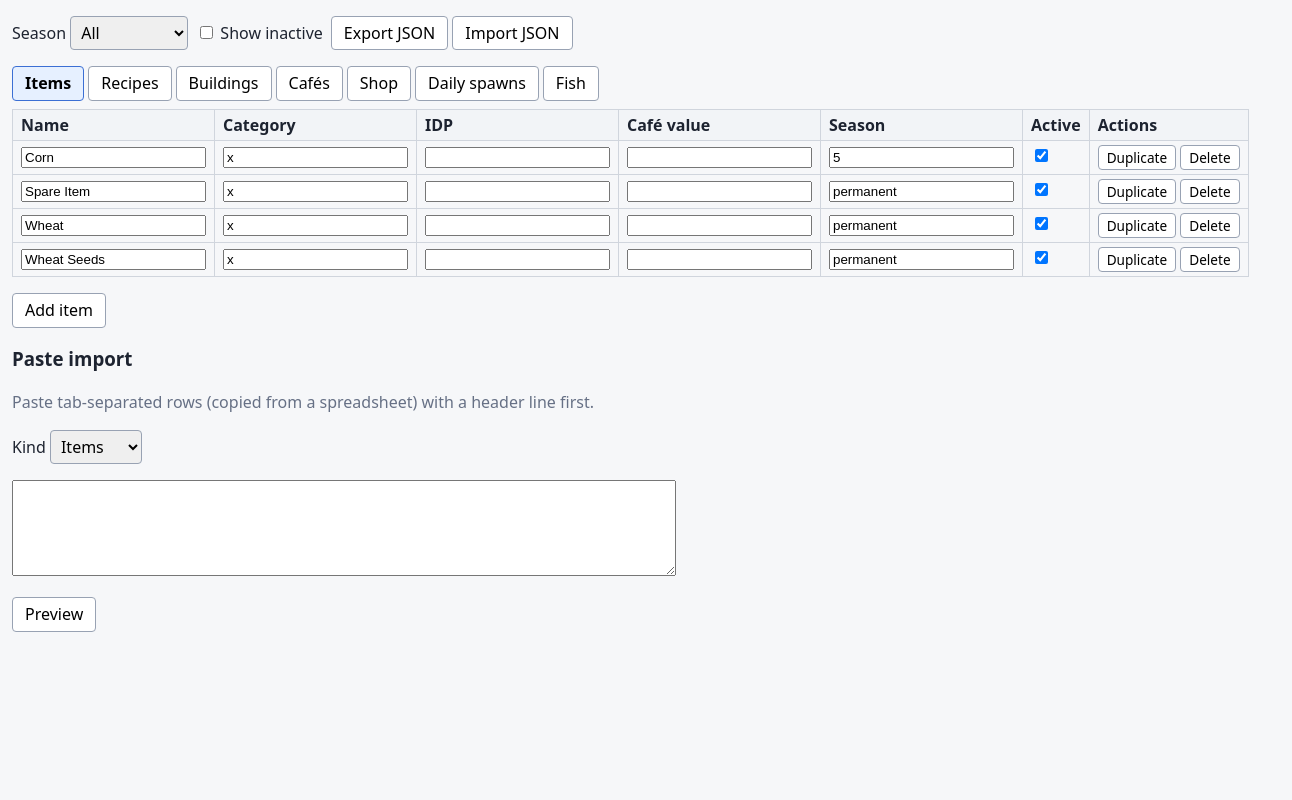
it: DataTab › switches the season filter to All (with a note) when it would hide a new row
Select "Permanent" in the dropdown named "Season filter" at (129, 33), box [70,16,188,50]
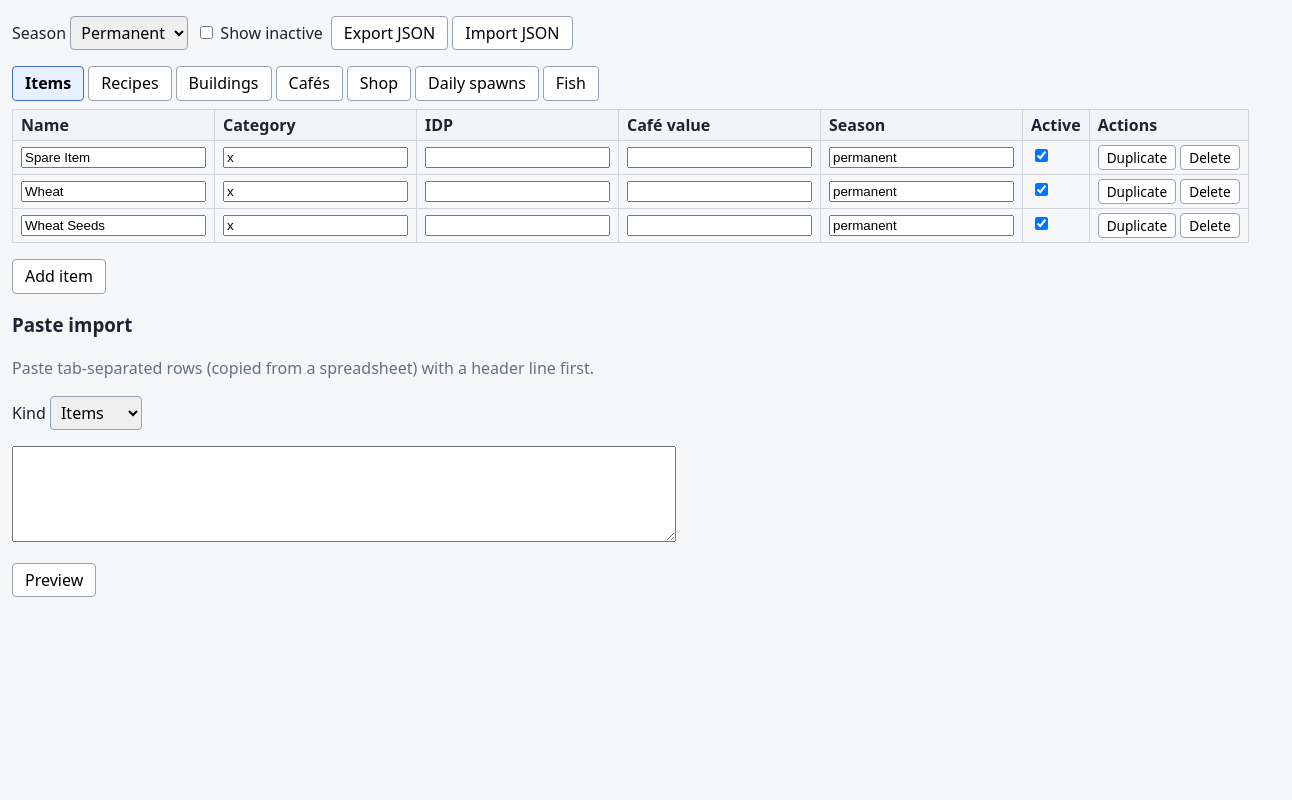
Click the button "Add item" at (59, 276), box [12,259,106,294]
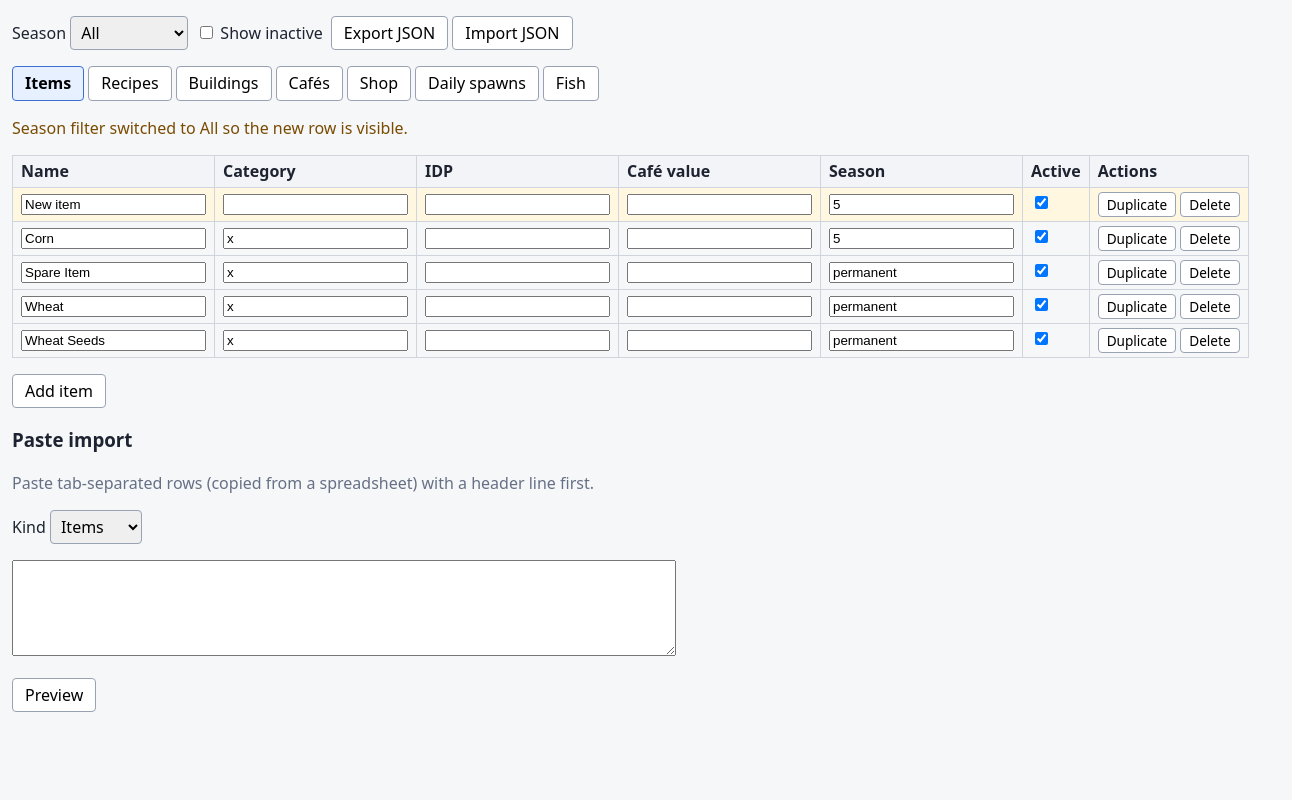
Expected: the message shows "switched to All", [12,117,408,139]
Expected: the field showing "New item" is shown, [21,194,206,215]
Select "Season 5" in the dropdown named "Season filter" at (129, 33), box [70,16,188,50]
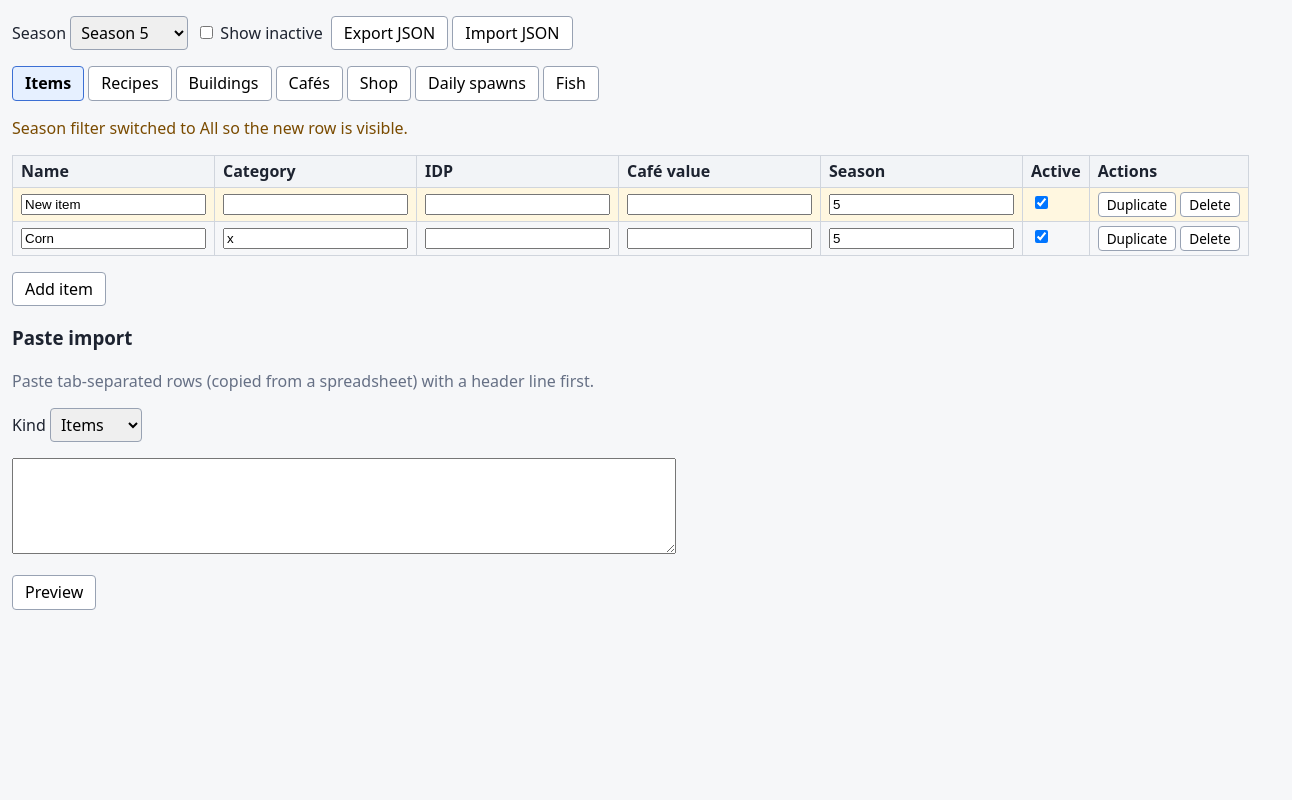
Click the button with aria-label "Duplicate Corn" at (1137, 238), box [1098,226,1176,251]
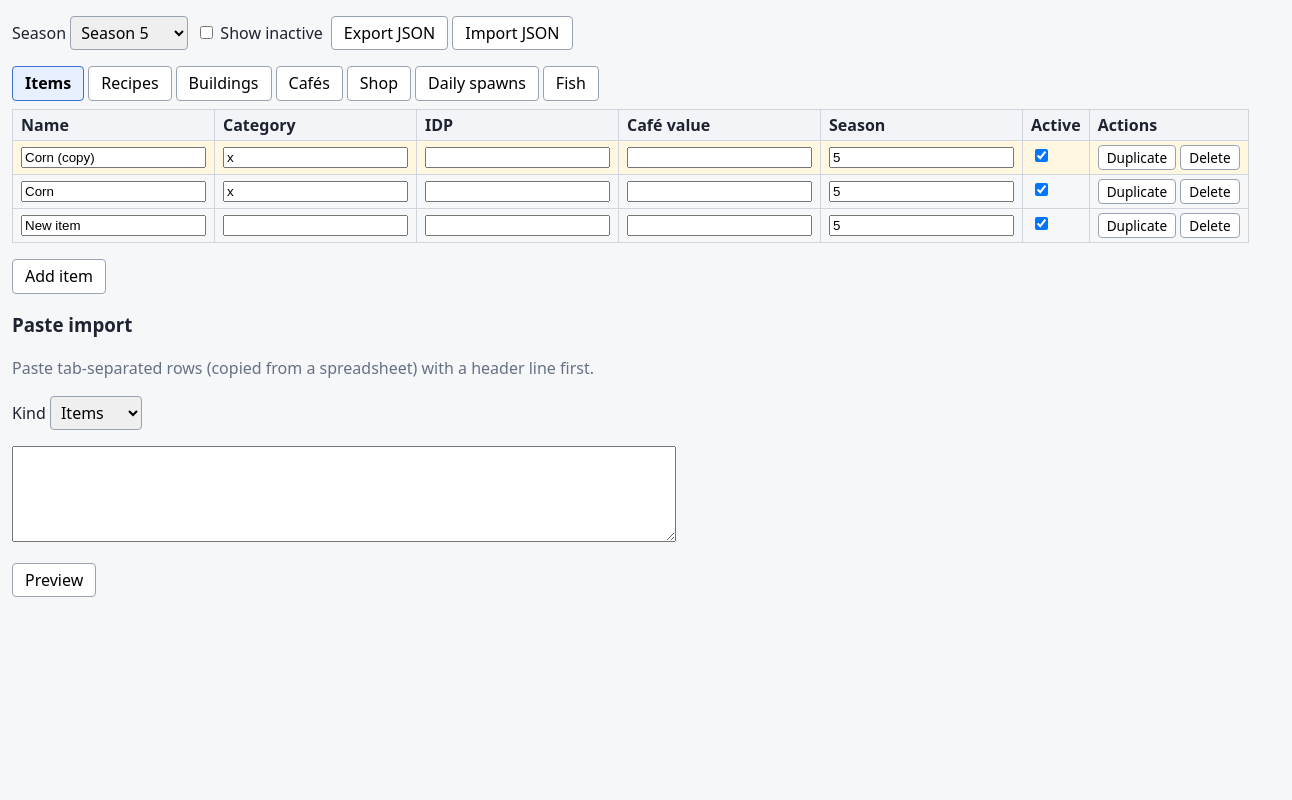
Expected: the message "Season filter switched to All so the new row is visible." is gone
